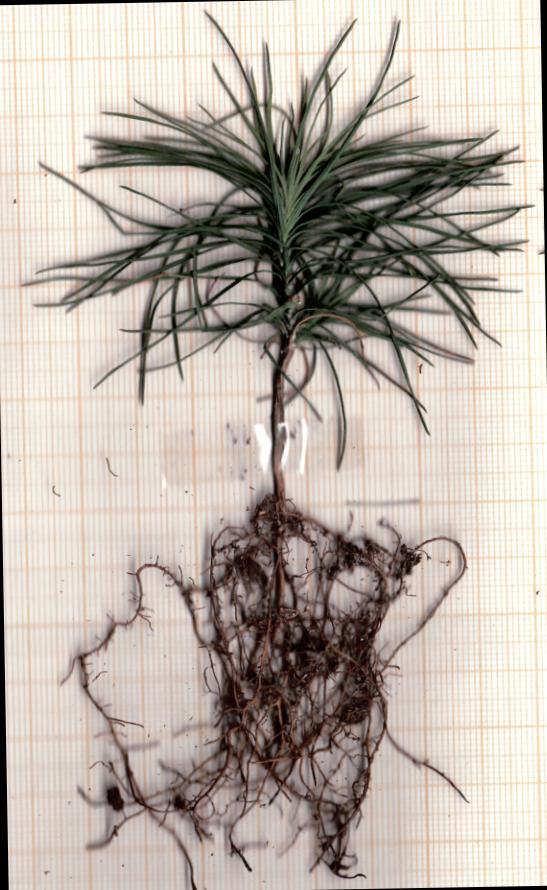flower: (12, 0, 536, 476)
root: (58, 485, 476, 890)
stem: (257, 350, 292, 494)
